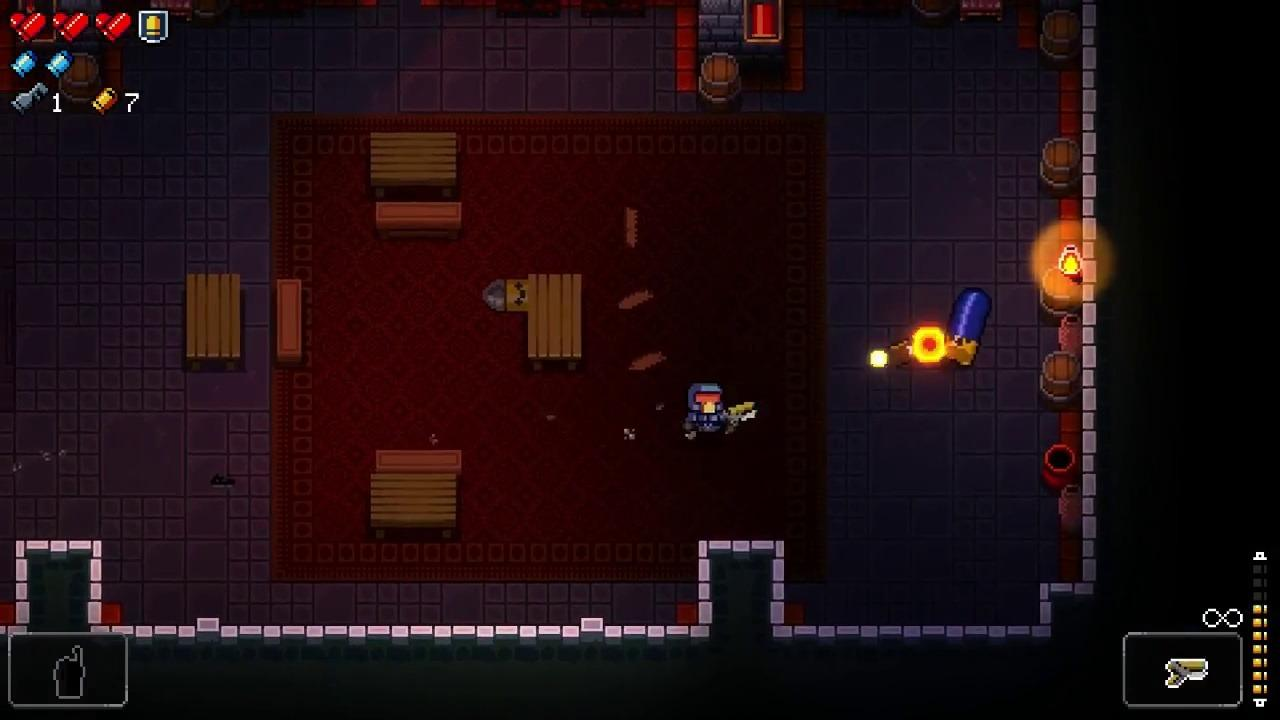blue_shotgun_kin: (945, 288, 993, 369)
dead_bullet_kin: (482, 278, 529, 312)
player: (688, 385, 724, 434)
table: (371, 472, 458, 542), (369, 134, 458, 197), (186, 271, 240, 372), (528, 274, 580, 374)
